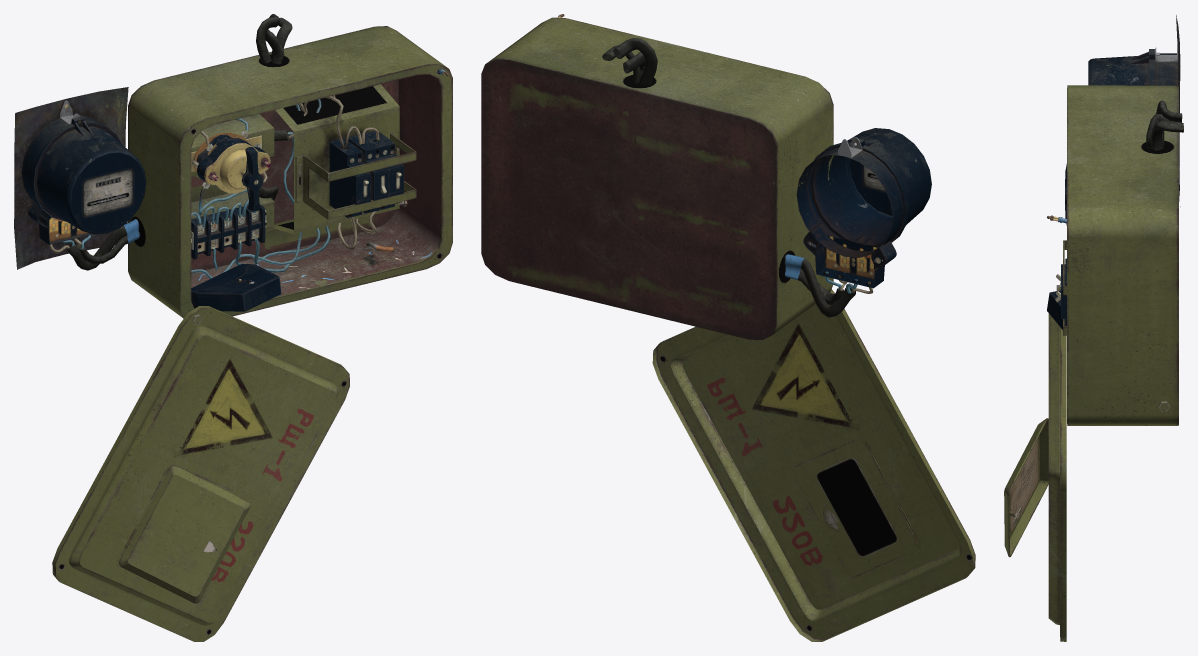
File: switchboard.glb
3 views of the same model, side by side, from view 1: azimuth 30°, elevation 25°; view 2: azimuth 150°, elevation 25°; view 3: azimuth 270°, elevation 25° (orthographic). The views are drawn at different scales.
Visible parts, largest first — view 1: W_Low, E_Low, object 1, Q_Low, A_Low, R_Low, object 9, object 10, D_Low, object 2, R_Low.004; view 2: W_Low, E_Low, object 1, object 9; view 3: W_Low, E_Low, A_Low, object 1, object 9, object 2, R_Low, object 10.
Part boxes in pixels (bbox=[...]): W_Low: bbox=[128, 26, 452, 318]; E_Low: bbox=[52, 306, 349, 641]; object 1: bbox=[21, 100, 146, 244]; Q_Low: bbox=[191, 84, 399, 247]; A_Low: bbox=[119, 465, 250, 603]; R_Low: bbox=[191, 130, 403, 259]; object 9: bbox=[49, 14, 379, 278]; object 10: bbox=[14, 87, 128, 269]; D_Low: bbox=[191, 131, 416, 242]; object 2: bbox=[191, 264, 281, 311]; R_Low.004: bbox=[240, 147, 263, 211]; W_Low: bbox=[481, 17, 833, 340]; E_Low: bbox=[652, 289, 975, 641]; object 1: bbox=[796, 128, 931, 288]; object 9: bbox=[602, 38, 873, 317]; W_Low: bbox=[1067, 85, 1178, 425]; E_Low: bbox=[1048, 282, 1066, 641]; A_Low: bbox=[1004, 418, 1048, 557]; object 1: bbox=[1088, 41, 1179, 169]; object 9: bbox=[1146, 100, 1183, 150]; object 2: bbox=[1047, 290, 1064, 329]; R_Low: bbox=[1061, 258, 1066, 325]; object 10: bbox=[1176, 15, 1180, 206].
Size of the model in its own units: 0.6988 by 0.9287 by 0.2527.
Materials: 3 (3 with a texture image).
